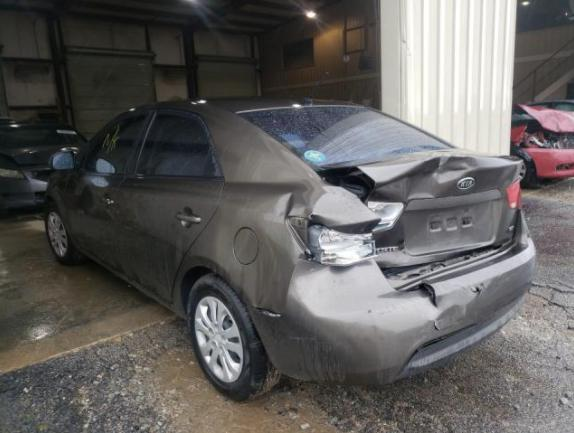Back-bumper: (245, 208, 535, 386)
Back-door: (114, 109, 224, 303)
Back-wheel: (187, 273, 283, 401)
Back-window: (136, 112, 217, 175)
Back-windshield: (236, 106, 453, 168)
Fender: (44, 169, 79, 250)
Front-door: (65, 109, 154, 271)
Front-wheel: (45, 199, 86, 266)
Front-window: (77, 113, 149, 173)
Mirror: (48, 150, 80, 171)
Quarter-panel: (174, 173, 381, 314)
Rocker-panel: (79, 247, 188, 320)
Roof: (141, 97, 368, 113)
Tail-light: (310, 226, 376, 266), (367, 202, 404, 232), (507, 178, 520, 209), (516, 187, 522, 208)
Trunk: (312, 147, 524, 269)
